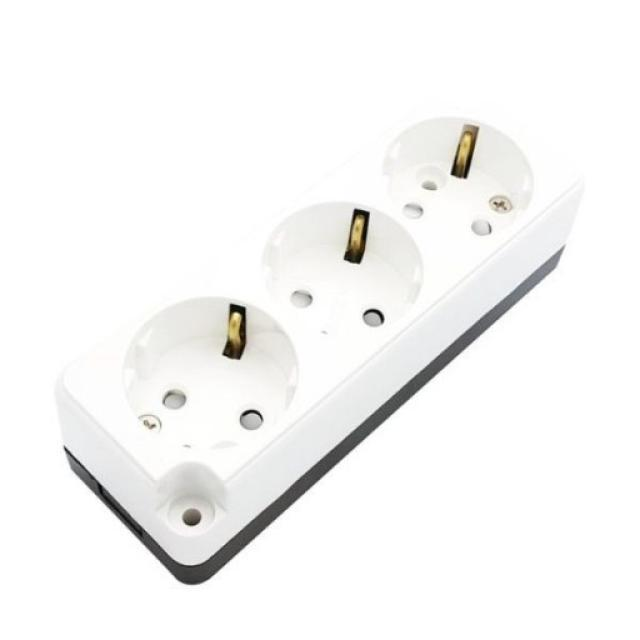typeb: (93, 77, 590, 609)
